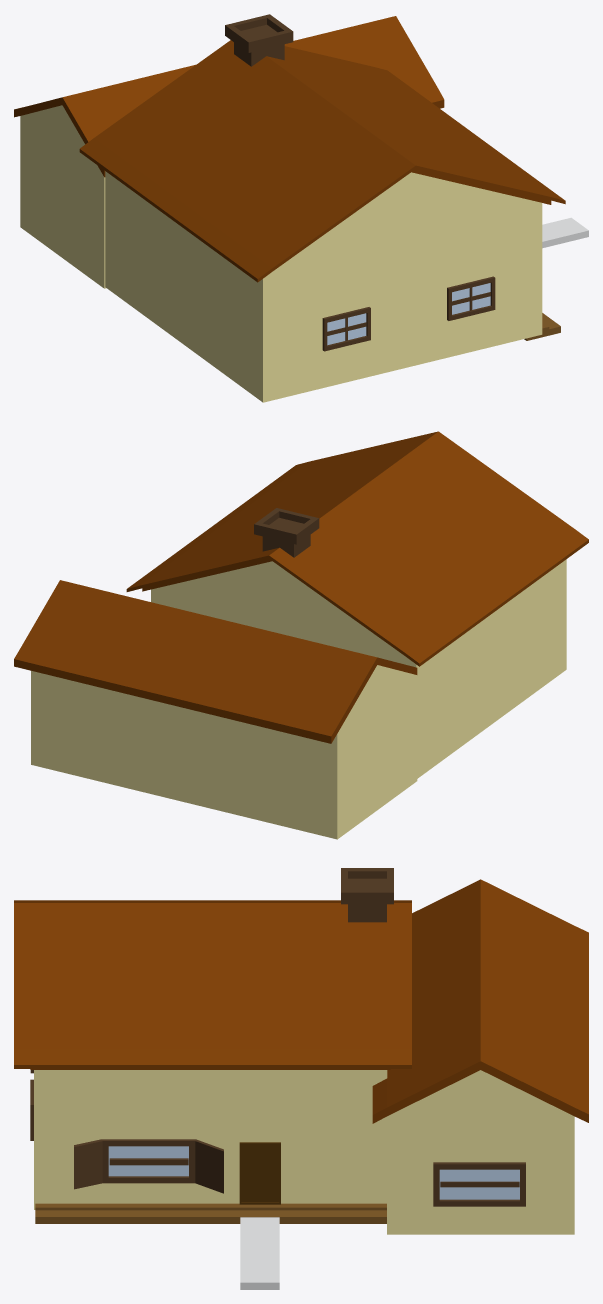
The model's file is Casa6.fbx.
3 renders of one model, top to bottom at view 1: azimuth 30°, elevation 25°; view 2: azimuth 150°, elevation 25°; view 3: azimuth 270°, elevation 25°, orthographic. The views are drawn at different scales.
Visible parts, largest first — view 1: Cube.066; view 2: Cube.066; view 3: Cube.066.
Boxes of the visible parts, bbox=[...] form: Cube.066: bbox=[14, 14, 588, 402]; Cube.066: bbox=[14, 431, 588, 839]; Cube.066: bbox=[14, 868, 588, 1289].
Bounding box in the file's own units: 1925 × 993 × 1985.
